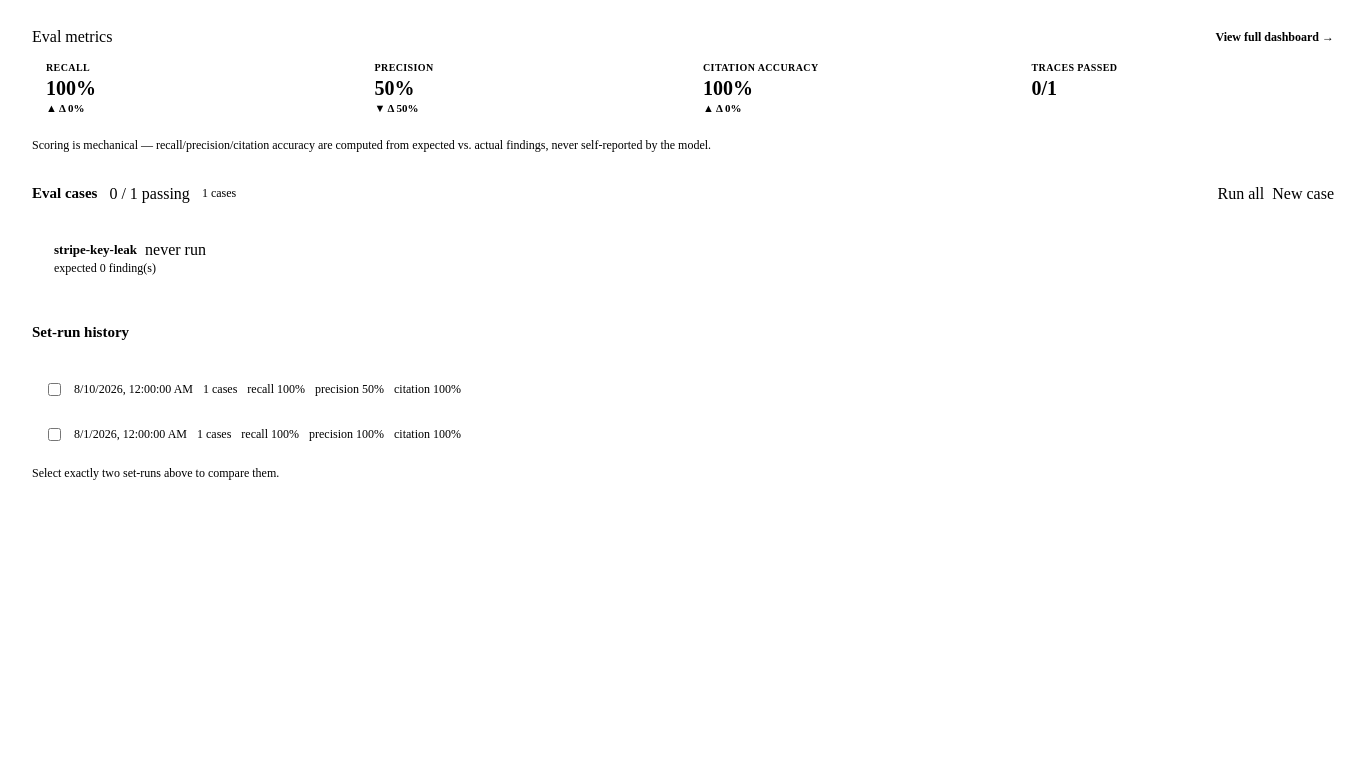
Test: EvalOwnerTab › selecting two set-runs shows per-metric deltas and per-case pass/fail transitions (AC-18/AC-19)
Click the checkbox named "Select to compare" next to "8/10/2026, 12:00:00 AM": (54, 389) [48,383,61,396]
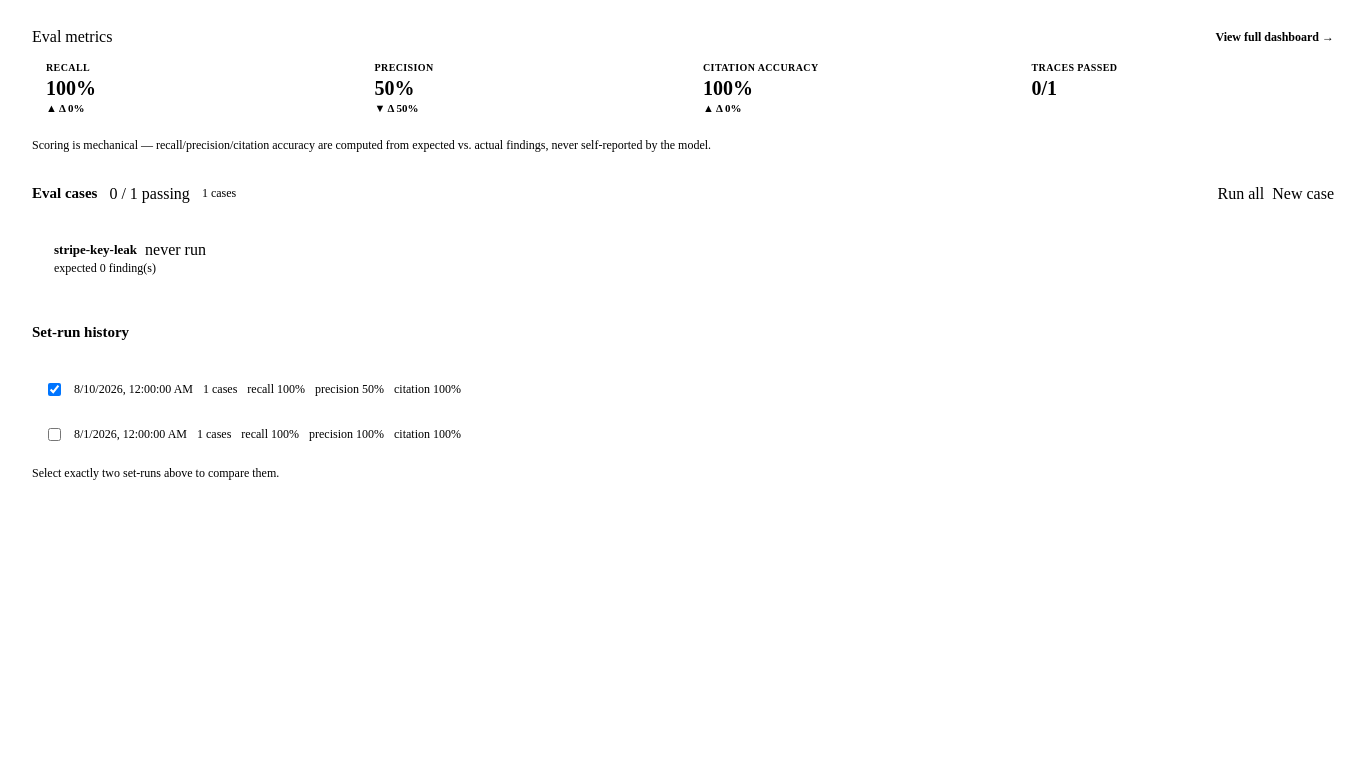
Click the checkbox named "Select to compare" next to "8/1/2026, 12:00:00 AM": (54, 434) [48,428,61,441]
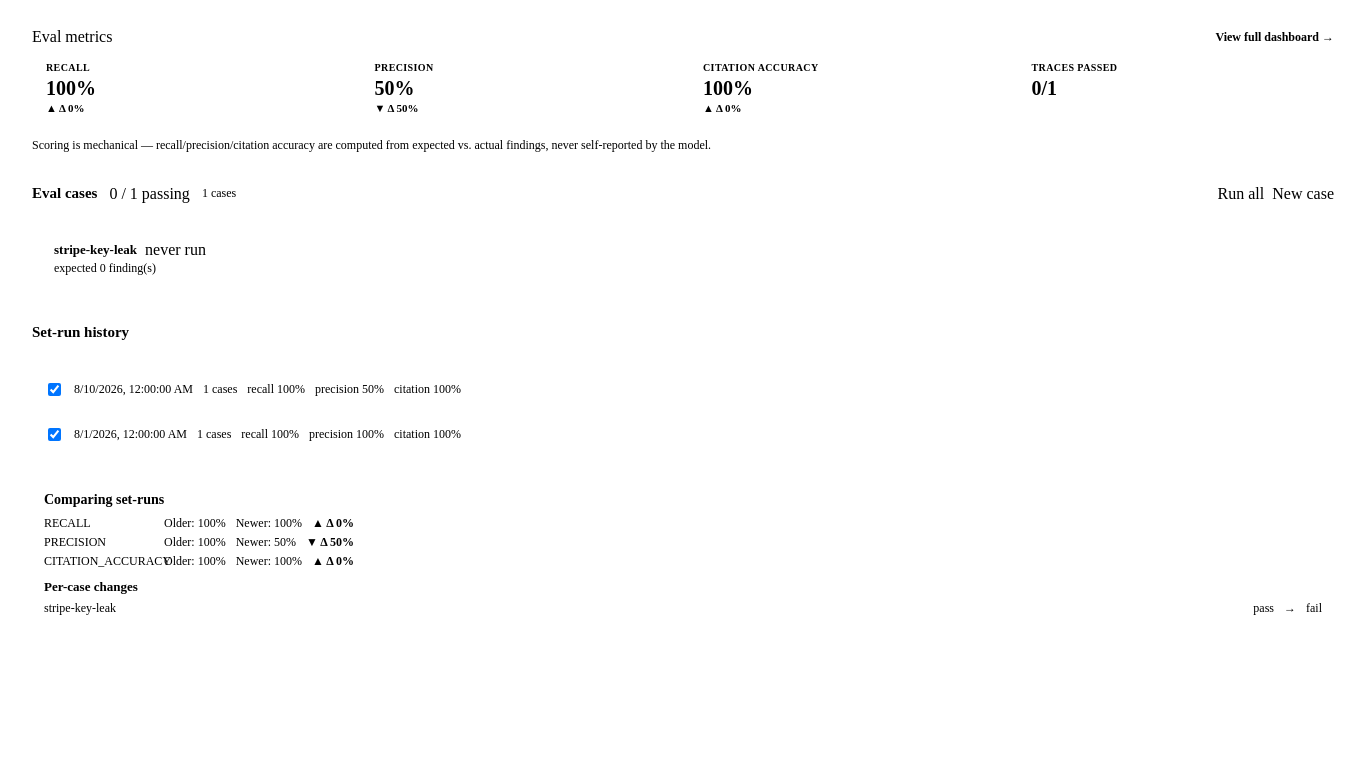
Result: the heading "Comparing set-runs" is shown at [44,492,164,507]
Result: the text "▼ Δ 50%" below "Comparing set-runs" is shown at [320,535,354,549]
Result: the heading "Per-case changes" is shown at [44,579,138,594]
